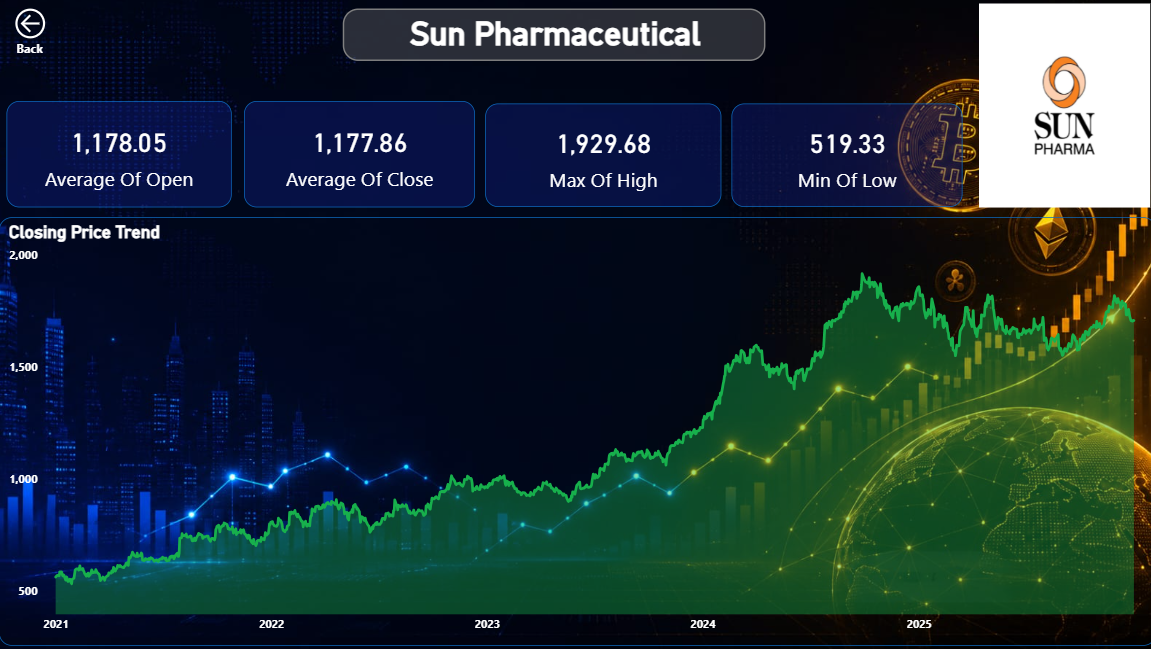

What the dashboard file says about the page in this screenshot:
{"tool":"powerbi","page":{"name":"Portfolio Analysis","canvas":[1280,720],"ordinal":5},"visuals":[{"type":"actionButton","box":[17.8,8.2,67.2,43.9],"z":0,"group":"g1"},{"type":"card","title":"  ","fields":{"Values":["Measure.Average Sales"]},"box":[274.4,115.3,253.9,116.6],"z":0},{"type":"shape","box":[9.6,43.9,59,27.4],"z":1000,"group":"g1"},{"type":"card","fields":{"Values":["Measure.Average Open"]},"box":[13.7,115.3,247,116.6],"z":1000},{"type":"card","fields":{"Values":["Measure.min low"]},"box":[809.6,118,253.9,113.9],"z":2000},{"type":"card","fields":{"Values":["Measure.max high"]},"box":[539.3,118,259.3,113.9],"z":3000},{"type":"group","id":"g1","title":"Group 1","box":[9.6,8.2,75.5,63.1],"z":4000},{"type":"textbox","title":"Sun Pharmaceutical","box":[382.8,13.7,463.8,57.6],"z":5000},{"type":"areaChart","title":"Closing Price Trend","fields":{"Category":["Fact_Stock.Date"],"Y":["Sum(Fact_Stock.Close)"]},"box":[5.5,242.9,1270.7,470.7],"z":6000},{"type":"slicer","fields":{"Values":["Dim_Assets.AssetName"]},"box":[1081.3,43.9,4.1,65.9],"z":7000},{"type":"ImageCarouselByMAQSoftware1448688110701","fields":{"ImageData":["Dim_Assets.Logo"]},"box":[1081.3,8.2,188,223.7],"z":8000}]}

Visuals, with their boxes in screenshot pixels (x1, y1, x2, y2), scaled from the page's 1280x720 canvas onto the 1151x649 screenshot:
actionButton: Rect(16, 7, 76, 47)
"  " card: Rect(247, 104, 475, 209)
shape: Rect(9, 40, 62, 64)
card - Measure.Average Open: Rect(12, 104, 234, 209)
card - Measure.min low: Rect(728, 106, 956, 209)
card - Measure.max high: Rect(485, 106, 718, 209)
"Group 1" group: Rect(9, 7, 77, 64)
"Sun Pharmaceutical" textbox: Rect(344, 12, 761, 64)
"Closing Price Trend" areaChart: Rect(5, 219, 1148, 643)
slicer - Dim_Assets.AssetName: Rect(972, 40, 976, 99)
ImageCarouselByMAQSoftware1448688110701 - Dim_Assets.Logo: Rect(972, 7, 1141, 209)
